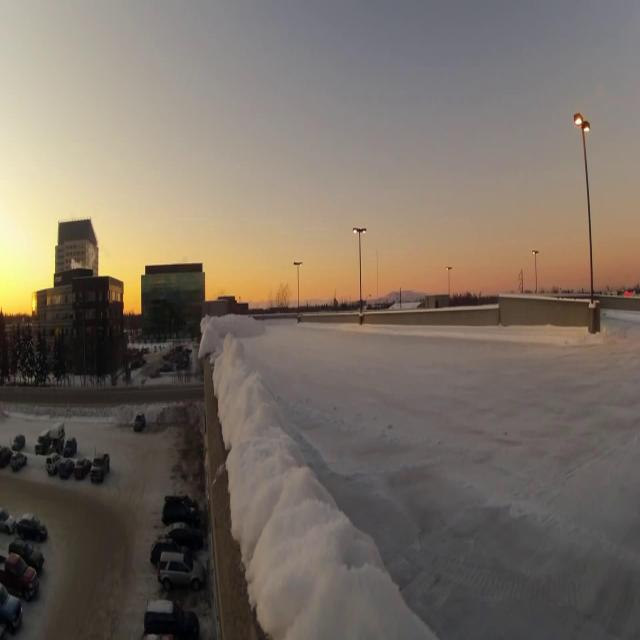Fire: (68, 257, 86, 269)
